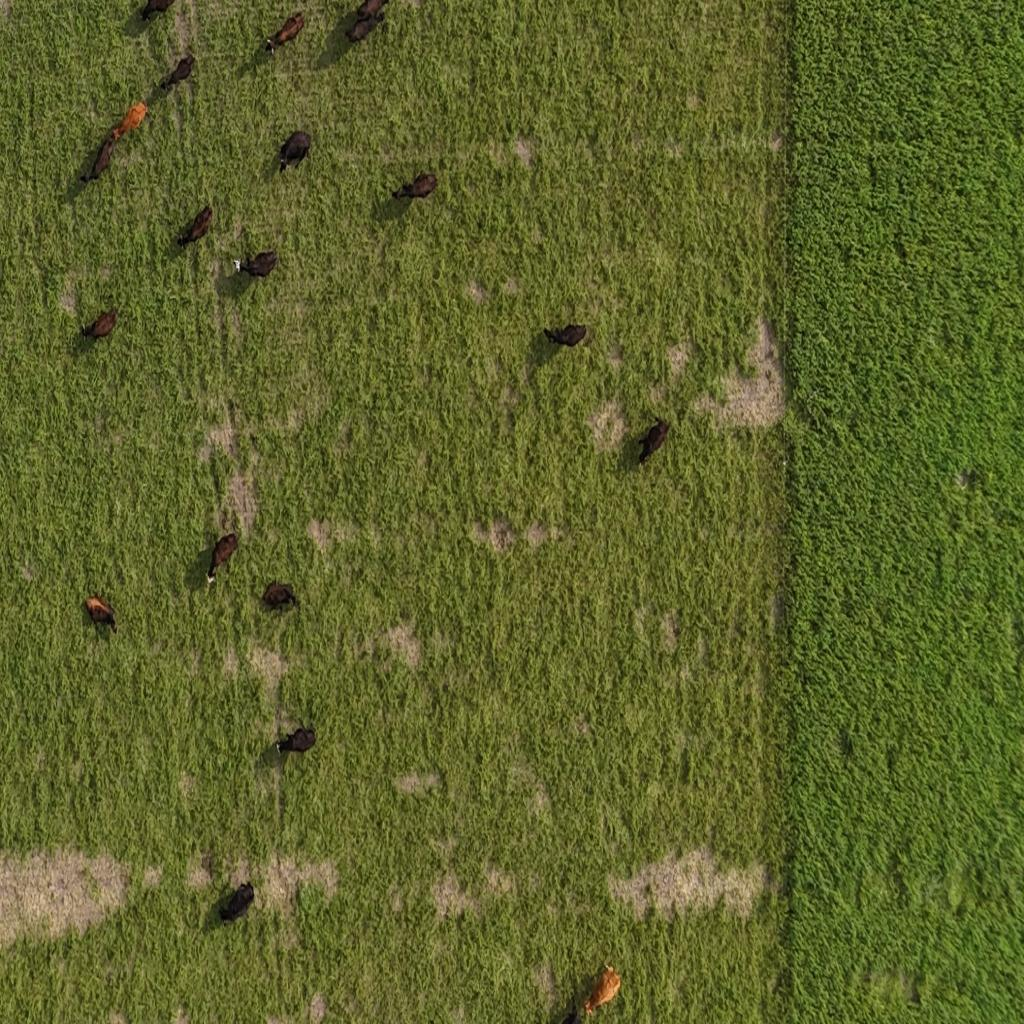cow: (558, 963, 623, 1024), (215, 870, 261, 931), (262, 8, 309, 60), (632, 411, 670, 470), (204, 528, 240, 588), (343, 0, 391, 43), (108, 100, 150, 148), (272, 722, 320, 763), (175, 202, 215, 251), (276, 130, 312, 178), (80, 300, 122, 339), (85, 132, 117, 182), (234, 245, 279, 279), (542, 321, 589, 353), (159, 54, 195, 92), (83, 595, 118, 634), (394, 173, 438, 203), (260, 581, 300, 611), (140, 0, 178, 22), (560, 1004, 582, 1024)
